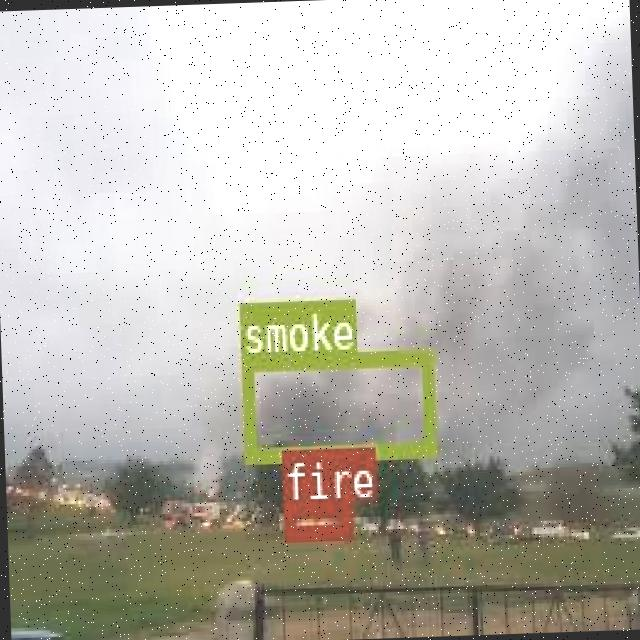fire: (282, 499, 348, 537)
smoke: (240, 346, 433, 458)
